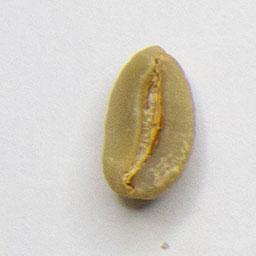longberry: (98, 43, 201, 204)
